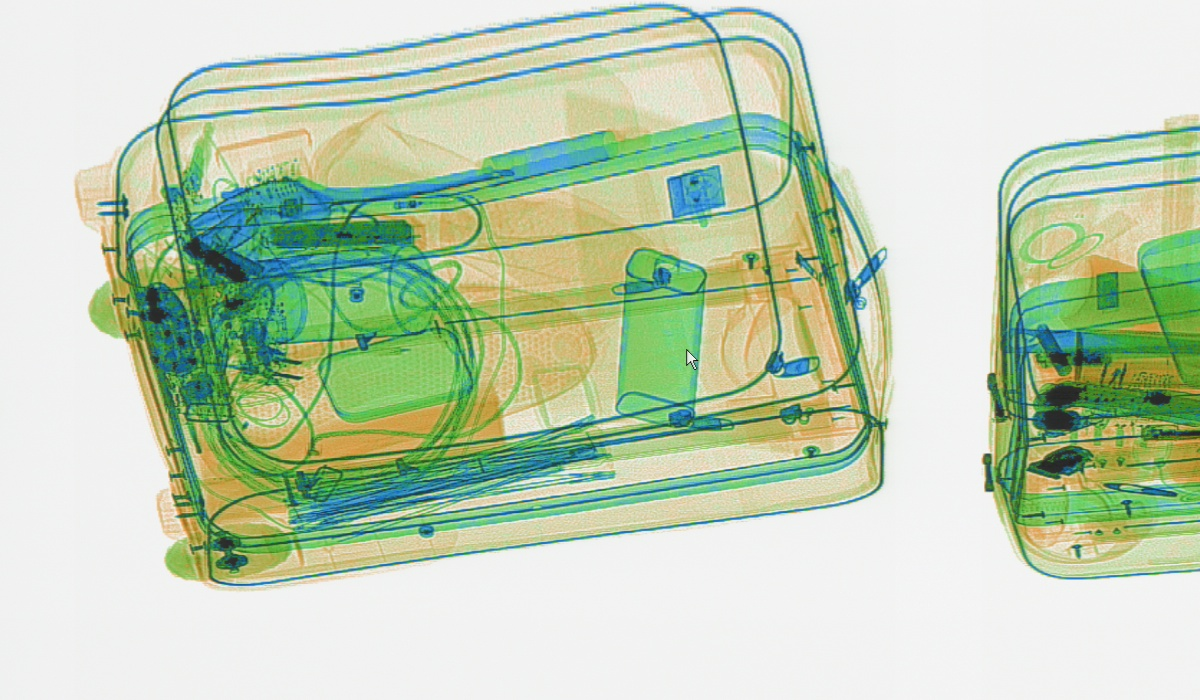knife: (130, 277, 196, 377)
zippooil: (611, 245, 707, 431)
